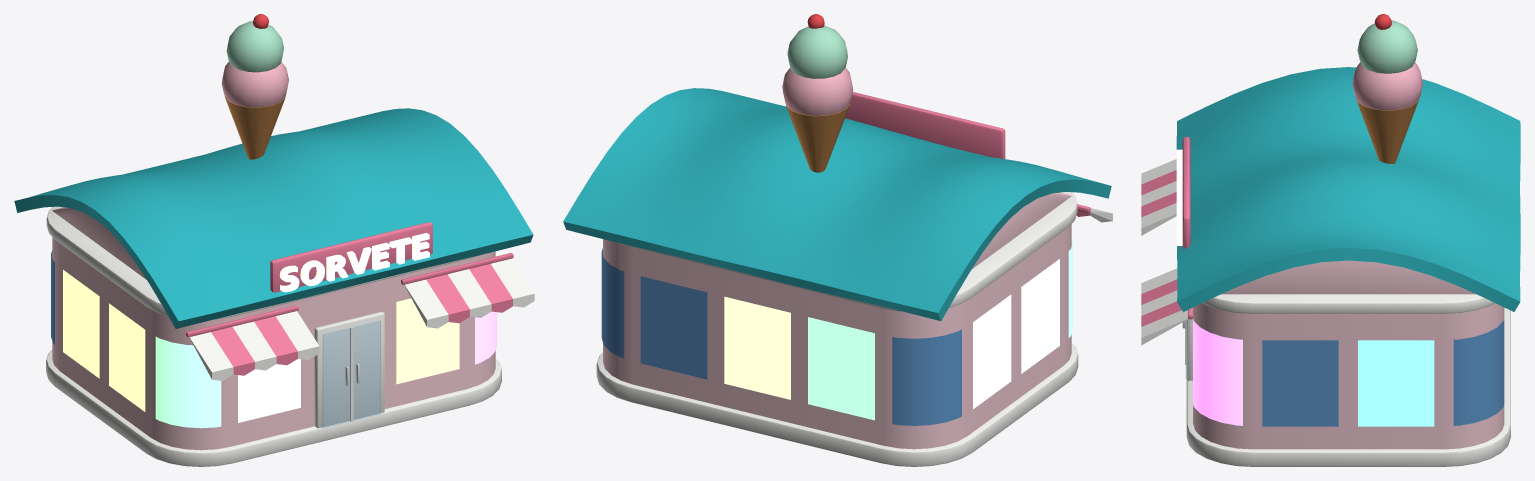
Rendered from sorveteria.glb.
3 renders of one model, left to right at view 1: azimuth 30°, elevation 25°; view 2: azimuth 150°, elevation 25°; view 3: azimuth 270°, elevation 25°, orthographic. The views are drawn at different scales.
Visible parts, largest first — view 1: sorveteria; view 2: sorveteria; view 3: sorveteria.
Boxes of the visible parts, box(x1,y1,x2,y2) form: sorveteria: box(14, 14, 534, 466); sorveteria: box(563, 14, 1112, 466); sorveteria: box(1141, 14, 1520, 466).
Size of the model in its own units: 9.96 by 9.35 by 8.78.
10 materials, 1 textured.
